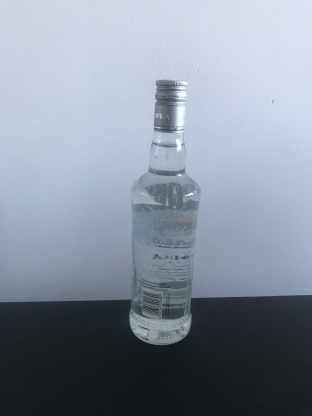nakretka: (152, 77, 189, 136)
